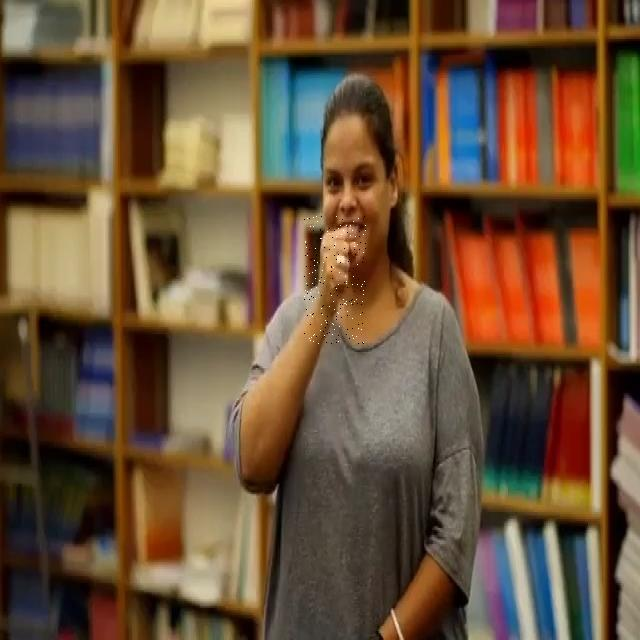icecream: (304, 216, 366, 344)
